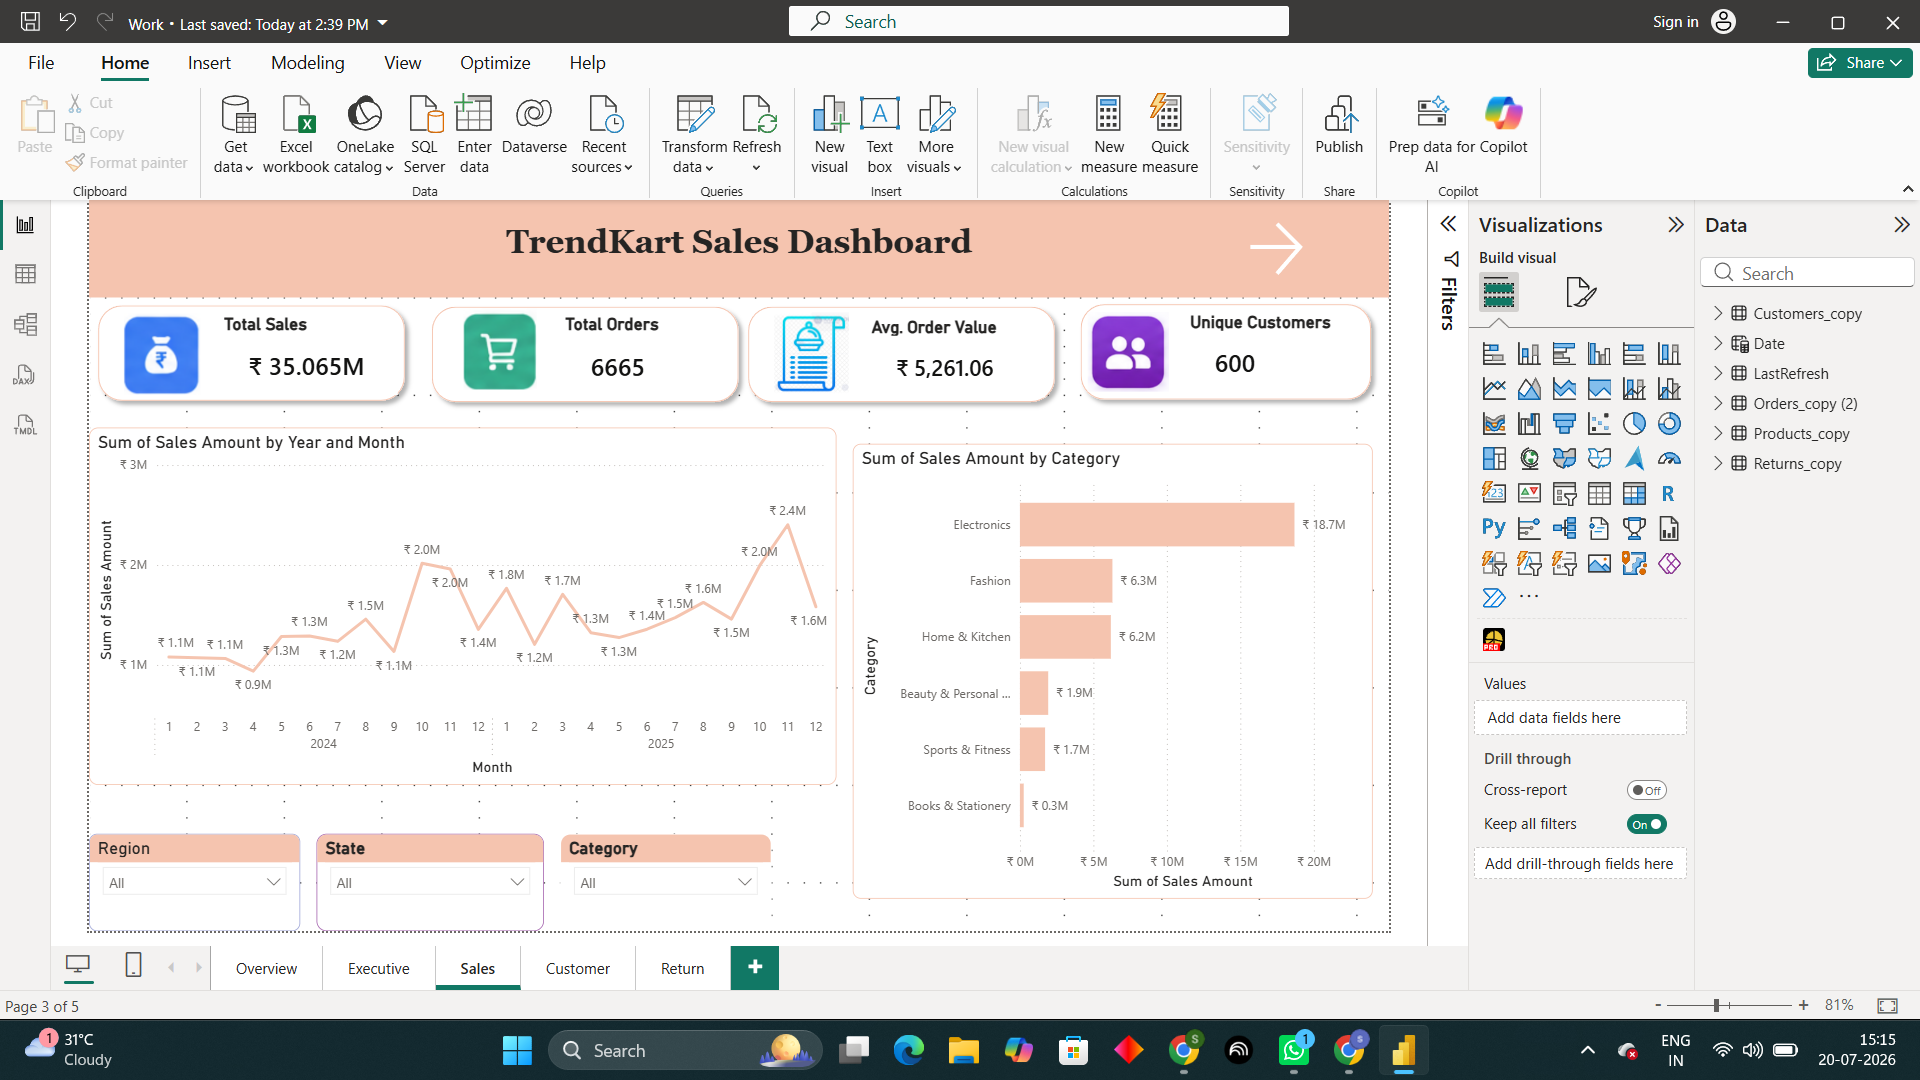

The dashboard page shown, as its layout file describes it:
{"tool":"powerbi","page":{"name":"Sales","canvas":[1280,720],"ordinal":2},"visuals":[{"type":"textbox","box":[0,0,1280,96],"z":0},{"type":"lineChart","fields":{"Y":["Sum(Orders_copy (2).Sales Amount)"],"Category":["Date.Year","Date.Month"]},"box":[0,224,736,352],"z":1000},{"type":"shape","box":[-0.2,94.3,320,112],"z":2000},{"type":"cardVisual","title":"Total Sales","fields":{"Data":["Sum(Orders_copy (2).Sales Amount)"]},"box":[127.8,111.5,176,80],"z":3000},{"type":"image","box":[31.8,111.5,80,80],"z":4000},{"type":"clusteredBarChart","fields":{"Y":["Sum(Orders_copy (2).Sales Amount)"],"Category":["Products_copy.Category","Products_copy.Sub-Category","Products_copy.Product Name"]},"box":[752,240,512,448],"z":5000},{"type":"shape","box":[329,95.6,320,112],"z":6000},{"type":"image","box":[356.8,106.7,96,80],"z":7000},{"type":"cardVisual","title":"Total Orders","fields":{"Data":["CountNonNull(Orders_copy (2).Order ID)"]},"box":[464,112,144,80],"z":8000},{"type":"shape","box":[640,96,320,112],"z":9000},{"type":"image","box":[662.8,110.6,96,80],"z":10000},{"type":"cardVisual","title":"Avg. Order Value","fields":{"Data":["Orders_copy (2).AOV"]},"box":[765.7,114.6,176,80],"z":11000},{"type":"shape","box":[967.4,94,304,112],"z":12000},{"type":"cardVisual","title":"Unique Customers","fields":{"Data":["CountNonNull(Customers_copy.Customer ID)"]},"box":[1079.4,110,160,80],"z":13000},{"type":"image","box":[983.4,110,80,80],"z":14000},{"type":"slicer","title":"Region","fields":{"Values":["Customers_copy.Region"]},"box":[0,624,208,96],"z":15000},{"type":"slicer","title":"State","fields":{"Values":["Customers_copy.State"]},"box":[224,624,224,96],"z":16000},{"type":"slicer","title":"Category","fields":{"Values":["Products_copy.Category"]},"box":[464,624,208,96],"z":17000},{"type":"actionButton","box":[1136,16,96,64],"z":18000}]}

Visuals, with their boxes on the page's 1280x720 design canvas (x1, y1, x2, y2). These are canvas units, not pixel positions in the 1920x1080 screenshot, which may show the page scaled, cropped or inside an application window:
textbox: (0, 0, 1280, 96)
lineChart - Sum(Orders_copy (2).Sales Amount) x Date.Year: (0, 224, 736, 576)
shape: (0, 94, 320, 206)
"Total Sales" cardVisual: (128, 112, 304, 192)
image: (32, 112, 112, 192)
clusteredBarChart - Sum(Orders_copy (2).Sales Amount) x Products_copy.Category: (752, 240, 1264, 688)
shape: (329, 96, 649, 208)
image: (357, 107, 453, 187)
"Total Orders" cardVisual: (464, 112, 608, 192)
shape: (640, 96, 960, 208)
image: (663, 111, 759, 191)
"Avg. Order Value" cardVisual: (766, 115, 942, 195)
shape: (967, 94, 1271, 206)
"Unique Customers" cardVisual: (1079, 110, 1239, 190)
image: (983, 110, 1063, 190)
"Region" slicer: (0, 624, 208, 720)
"State" slicer: (224, 624, 448, 720)
"Category" slicer: (464, 624, 672, 720)
actionButton: (1136, 16, 1232, 80)
